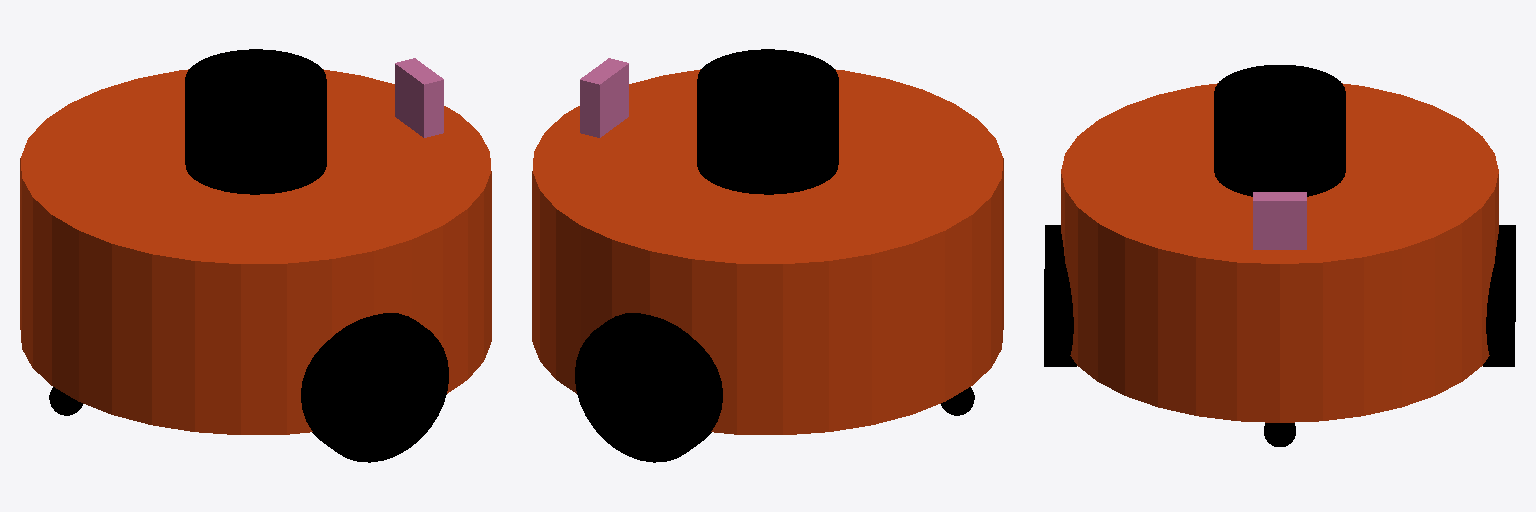
URDF robot description (tk_bot):
<?xml version="1.0"?>
<!-- 
        参数
            形状:圆柱 
            半径:10     cm 
            高度:8      cm 
            离地:1.5    cm

    -->
<robot name="tk_bot">
    <material name="yellow">
        <color rgba="0.8 0.3 0.1 0.5" />
    </material>
    <material name="black">
        <color rgba="0.0 0.0 0.0 0.5"/>
    </material>
    <!-- 设置 base_footprint  -->
    <link name="base_footprint">
        <visual>
            <geometry>
                <sphere radius="0.001"/>
            </geometry>
        </visual>
    </link>
    <!-- 添加底盘 -->
    <link name="base_link">
        <visual>
            <geometry>
                <cylinder radius="0.1" length="0.08"/>
            </geometry>
            <origin xyz="0.0 0.0 0.0"/>
            <material name="yellow"/>
        </visual>
        <collision>
            <geometry>
                <cylinder radius="0.1" length="0.08"/>
            </geometry>
            <origin xyz="0.0 0.0 0.0"/>
        </collision>
        <inertial>
            <mass value="0.2"/>
            <inertia ixx="0.0122666" ixy="0" ixz="0" iyy="0.0122666" iyz="0" izz="0.02"/>
        </inertial>
    </link>

    <joint name="base_link2base_footprint" type="fixed">
        <parent link="base_footprint"/>
        <child link="base_link"/>
        <origin xyz="0.0 0.0 0.015"/>
    </joint>
    <gazebo reference="base_link">
        <material>Gazebo/Yellow</material>
    </gazebo>
    <!-- 添加驱动轮 -->
    <!--
        驱动轮是侧翻的圆柱
        参数
            半径: 3.25 cm
            宽度: 1.5  cm
            颜色: 黑色
        关节设置:
            x = 0
            y = 底盘的半径 + 轮胎宽度 / 2
            z = 离地间距 + 底盘长度 / 2 - 轮胎半径 = 1.5 + 4 - 3.25 = 2.25(cm)
            axis = 0 1 0
    -->
    <link name="left_wheel">
        <visual>
            <geometry>
                <cylinder radius="0.0325" length="0.015"/>
            </geometry>
            <origin xyz="0.0 0.0 0.0" rpy="1.5705 0.0 0.0"/>
            <material name="black"/>
        </visual>
        <collision>
            <geometry>
                <cylinder radius="0.0325" length="0.015"/>
            </geometry>
            <origin xyz="0.0 0.0 0.0" rpy="1.5705 0.0 0.0"/>
            <material name="black"/>
        </collision>
        <inertial>
            <mass value="0.2"/>
            <inertia ixx="0.000190416666667" ixy="0" ixz="0" iyy="0.0001904" iyz="0" izz="0.00036"/>
        </inertial>
    </link>
    <joint name="left_wheel2base_link" type="continuous">
        <parent link="base_link"/>
        <child link="left_wheel"/>
        <origin xyz="0 0.1 -0.0225" />
        <axis xyz="0 1 0"/>
    </joint>

    <gazebo reference="left_wheel">
        <material>Gazebo/Black</material>
    </gazebo>

    <link name="right_wheel">
        <visual>
            <geometry>
                <cylinder radius="0.0325" length="0.015" />
            </geometry>
            <origin xyz="0 0 0" rpy="1.5705 0 0" />
            <material name="black">
                <color rgba="0.0 0.0 0.0 1.0" />
            </material>
        </visual>
        <collision>
            <geometry>
                <cylinder radius="0.0325" length="0.015" />
            </geometry>
            <origin xyz="0 0 0" rpy="1.5705 0 0" />
            <material name="black">
                <color rgba="0.0 0.0 0.0 1.0" />
            </material>
        </collision>
        <inertial>
            <mass value="0.2"/>
            <inertia ixx="0.000190416666667" ixy="0" ixz="0" iyy="0.0001904" iyz="0" izz="0.00036"/>
        </inertial>
    </link>

    <joint name="right_wheel2base_link" type="continuous">
        <parent link="base_link" />
        <child link="right_wheel" />
        <origin xyz="0 -0.1 -0.0225" />
        <axis xyz="0 1 0" />
    </joint>

    <gazebo reference="right_wheel">
        <material>Gazebo/Black</material>
    </gazebo>

    <!-- 添加万向轮(支撑轮) -->
    <!--
        参数
            形状: 球体
            半径: 0.75 cm
            颜色: 黑色

        关节设置:
            x = 自定义(底盘半径 - 万向轮半径) = 0.1 - 0.0075 = 0.0925(cm)
            y = 0
            z = 底盘长度 / 2 + 离地间距 / 2 = 0.08 / 2 + 0.015 / 2 = 0.0475 
            axis= 1 1 1

    -->
    <link name="front_wheel">
        <visual>
            <geometry>
                <sphere radius="0.0075" />
            </geometry>
            <origin xyz="0 0 0" rpy="0 0 0" />
            <material name="black">
                <color rgba="0.0 0.0 0.0 1.0" />
            </material>
        </visual>
        <collision>
            <geometry>
                <sphere radius="0.0075" />
            </geometry>
            <origin xyz="0 0 0" rpy="0 0 0" />
            <material name="black">
                <color rgba="0.0 0.0 0.0 1.0" />
            </material>
        </collision>
        <inertial>
            <mass value="0.02"/>
            <inertia ixx="0.000190416666667" ixy="0" ixz="0" iyy="0.0001904" iyz="0" izz="0.00036"/>
        </inertial>
    </link>

    <joint name="front_wheel2base_link" type="continuous">
        <parent link="base_link" />
        <child link="front_wheel" />
        <origin xyz="0.0925 0 -0.0475" />
        <axis xyz="1 1 1" />
    </joint>

    <gazebo reference="front_wheel">
        <material>Gazebo/Black</material>
    </gazebo>

    <gazebo reference="front_wheel">
        <mu1 value="0.0"/>
        <mu2 value="0.0"/>
        <kp value="1000000.0" />
        <kd value="10.0" />
        <!-- <fdir1 value="0 0 1"/> -->
    </gazebo>


    <link name="back_wheel">
        <visual>
            <geometry>
                <sphere radius="0.0075" />
            </geometry>
            <origin xyz="0 0 0" rpy="0 0 0" />
            <material name="black">
                <color rgba="0.0 0.0 0.0 1.0" />
            </material>
        </visual>
        <collision>
            <geometry>
                <sphere radius="0.0075" />
            </geometry>
            <origin xyz="0 0 0" rpy="0 0 0" />
            <material name="black">
                <color rgba="0.0 0.0 0.0 1.0" />
            </material>
        </collision>
        <inertial>
            <mass value="0.02"/>
            <inertia ixx="0.000190416666667" ixy="0" ixz="0" iyy="0.0001904" iyz="0" izz="0.00036"/>
        </inertial>
    </link>

    <joint name="back_wheel2base_link" type="continuous">
        <parent link="base_link" />
        <child link="back_wheel" />
        <origin xyz="-0.0925 0 -0.0475" />
        <axis xyz="1 1 1" />
    </joint>

    <gazebo reference="back_wheel">
        <material>Gazebo/Black</material>
    </gazebo>

    <gazebo reference="back_wheel">
        <mu1 value="0.0"/>
        <mu2 value="0.0"/>
        <kp value="1000000.0" />
        <kd value="10.0" />
        <!-- <fdir1 value="0 0 1"/> -->
    </gazebo>

    <gazebo>
        <plugin name='diff_drive' filename='libgazebo_ros_diff_drive.so'>
            <ros>
            <namespace>/</namespace>
            <remapping>cmd_vel:=cmd_vel</remapping>
            <remapping>odom:=odom</remapping>
            </ros>
            <update_rate>30</update_rate>
            <!-- wheels -->
            <!-- <left_joint>left_wheel_joint</left_joint> -->
            <!-- <right_joint>right_wheel_joint</right_joint> -->
            <left_joint>left_wheel2base_link</left_joint>
            <right_joint>right_wheel2base_link</right_joint>
            <!-- kinematics -->
            <wheel_separation>0.2</wheel_separation>
            <wheel_diameter>0.065</wheel_diameter>
            <!-- limits -->
            <max_wheel_torque>20</max_wheel_torque>
            <max_wheel_acceleration>1.0</max_wheel_acceleration>
            <!-- output -->
            <publish_odom>true</publish_odom>
            <publish_odom_tf>true</publish_odom_tf>
            <publish_wheel_tf>false</publish_wheel_tf>
            <odometry_frame>odom</odometry_frame>
            <robot_base_frame>base_footprint</robot_base_frame>
        </plugin>
        <plugin name="tkbot_joint_state" filename="libgazebo_ros_joint_state_publisher.so">
            <ros>
                <remapping>~/out:=joint_states</remapping>
            </ros>
            <update_rate>30</update_rate>
            <joint_name>right_wheel2base_link</joint_name>
            <joint_name>left_wheel2base_link</joint_name>
        </plugin> 
    </gazebo>

    
    <!-- 攝像頭 -->
    <link name="camera">
        <visual>
            <geometry>
                <box size="0.01 0.025 0.025"/>
            </geometry>
        </visual>
        <collision>
            <geometry>
                <box size="0.01 0.025 0.025"/>
            </geometry>
        </collision>
        <inertial>
            <mass value="1e-5" />
            <origin xyz="0 0 0" rpy="0 0 0"/>
            <inertia ixx="1e-6" ixy="0" ixz="0" iyy="1e-6" iyz="0" izz="1e-6" />
        </inertial>
    </link>
    <joint name="camera2base_link" type="fixed">
        <parent link="base_link"/>
        <child link="camera"/>
        <origin xyz="0.08 0.0 0.0525" rpy="0.0 0.0 0.0"/>
    </joint>
    <gazebo reference="camera">
        <material>Gazebo/Red</material>
    </gazebo>

    <gazebo reference="camera">
    <sensor type="camera" name="camera1">
      <update_rate>30.0</update_rate>
      <camera name="head">
        <horizontal_fov>1.3962634</horizontal_fov>
        <image>
          <width>800</width>
          <height>800</height>
          <format>R8G8B8</format>
        </image>
        <clip>
          <near>0.02</near>
          <far>300</far>
        </clip>
        <noise>
          <type>gaussian</type>
          <!-- Noise is sampled independently per pixel on each frame.
               That pixel's noise value is added to each of its color
               channels, which at that point lie in the range [0,1]. -->
          <mean>0.0</mean>
          <stddev>0.007</stddev>
        </noise>
      </camera>
      <plugin name="camera_controller" filename="libgazebo_ros_camera.so">
        <alwaysOn>true</alwaysOn>
        <updateRate>0.0</updateRate>
        <cameraName>tkdiffbot/camera1</cameraName>
        <imageTopicName>image_raw</imageTopicName>
        <cameraInfoTopicName>camera_info</cameraInfoTopicName>
        <frameName>camera</frameName>
        <hackBaseline>0.07</hackBaseline>
        <distortionK1>0.0</distortionK1>
        <distortionK2>0.0</distortionK2>
        <distortionK3>0.0</distortionK3>
        <distortionT1>0.0</distortionT1>
        <distortionT2>0.0</distortionT2>
      </plugin>
    </sensor>
  </gazebo>

    <!-- 雷達 -->
    <link name="laser">
        <visual>
            <geometry>
                <cylinder radius="0.03" length="0.04"/>
            </geometry>
            <material name="black"/>
        </visual>
    </link>
    <joint name="laser2base_link" type="fixed">
        <parent link="base_link"/>
        <child link="laser"/>
        <origin xyz="0.0 0.0 0.06" rpy="0.0 0.0 0.0"/>
    </joint>
    <gazebo reference="laser">
        <material>Gazebo/Black</material>
    </gazebo>

    <gazebo reference="laser">
      <sensor name="laser_sensor" type="ray">
      <always_on>true</always_on>
      <visualize>true</visualize>
      <update_rate>5</update_rate>
      <pose>0 0 0.075 0 0 0</pose>
      <ray>
          <scan>
            <horizontal>
              <samples>360</samples>
              <resolution>1.000000</resolution>
              <!-- <min_angle>0.000000</min_angle>
              <max_angle>6.280000</max_angle> -->
              <min_angle>1.57</min_angle>
              <max_angle>-1.57</max_angle>
            </horizontal>
          </scan>
          <range>
            <min>0.120000</min>
            <max>3.5</max>
            <resolution>0.015000</resolution>
          </range>
          <noise>
            <type>gaussian</type>
            <mean>0.0</mean>
            <stddev>0.01</stddev>
          </noise>
      </ray>

      <plugin name="laserscan" filename="libgazebo_ros_ray_sensor.so">
        <ros>
          <!-- <namespace>/tb3</namespace> -->
          <remapping>~/out:=scan</remapping>
        </ros>
        <output_type>sensor_msgs/LaserScan</output_type>
        <frame_name>laser</frame_name>
      </plugin>
      </sensor>
    </gazebo>
</robot>

--- Facts derived from the render (not from the file) ---
Views: 3 orthographic renders of the robot side by side, from view 1: azimuth 30°, elevation 25°; view 2: azimuth 150°, elevation 25°; view 3: azimuth 270°, elevation 25°.
Robot: tk_bot — 8 links, 7 joints (4 continuous, 3 fixed); root link base_footprint; default pose: every joint at zero.
Links seen in each view (by area): view 1: base_link, laser, right_wheel, camera, back_wheel; view 2: base_link, laser, left_wheel, camera, back_wheel; view 3: base_link, laser, right_wheel, left_wheel, camera, front_wheel.
Link boxes in pixels (left/top/right/bottom): base_link: left=20, top=69, right=491, bottom=434; laser: left=185, top=49, right=326, bottom=194; right_wheel: left=301, top=313, right=448, bottom=462; camera: left=395, top=58, right=443, bottom=137; back_wheel: left=49, top=387, right=82, bottom=415; base_link: left=532, top=69, right=1003, bottom=434; laser: left=697, top=49, right=838, bottom=194; left_wheel: left=575, top=313, right=722, bottom=462; camera: left=580, top=58, right=628, bottom=137; back_wheel: left=941, top=387, right=974, bottom=415; base_link: left=1061, top=83, right=1498, bottom=422; laser: left=1214, top=65, right=1345, bottom=196; right_wheel: left=1044, top=225, right=1076, bottom=366; left_wheel: left=1483, top=225, right=1515, bottom=366; camera: left=1253, top=192, right=1306, bottom=249; front_wheel: left=1264, top=423, right=1295, bottom=446.
Size in the robot's own frame: 0.2 by 0.215 by 0.135 metres.
Geometry: primitives only (box / cylinder / sphere), no mesh files.
